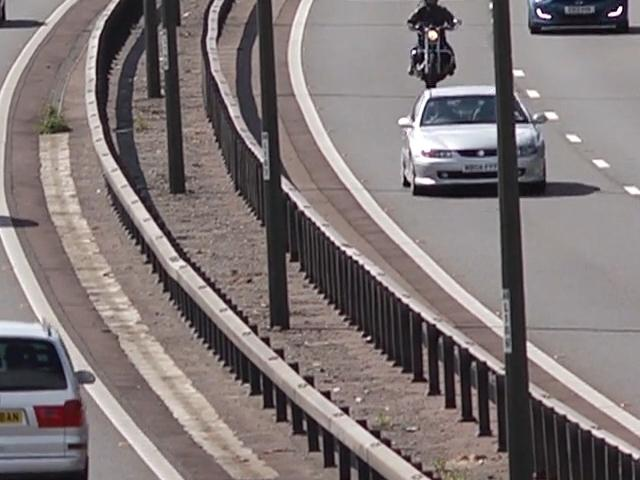car: (400, 84, 553, 197), (0, 313, 101, 480), (519, 0, 631, 34)
motorcycle: (400, 0, 458, 98)
